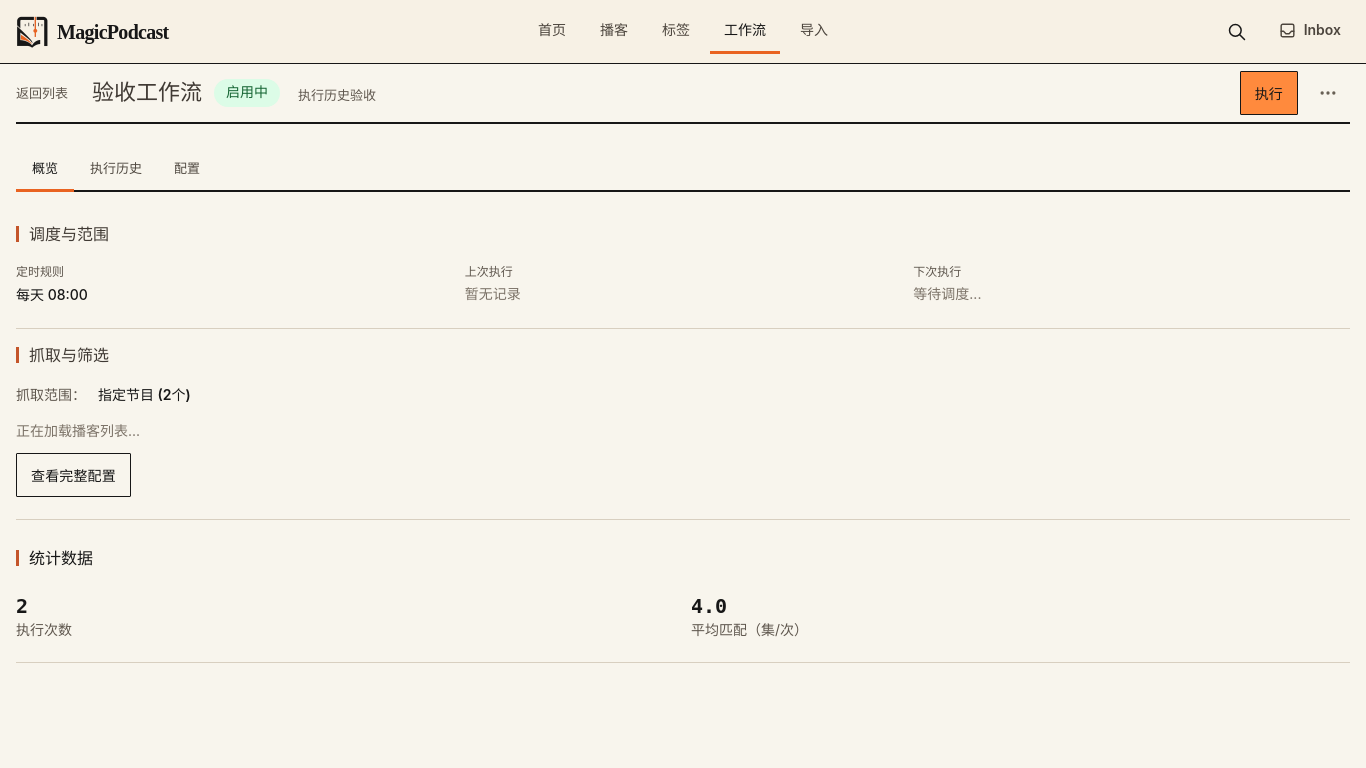
Scenario: 工作流执行历史可见等待验收 (#34) › AI 摘要失败时列表显示失败标记，状态仍为已完成且错误数为 0
Click the tab "执行历史": (116, 170) [74,148,158,192]
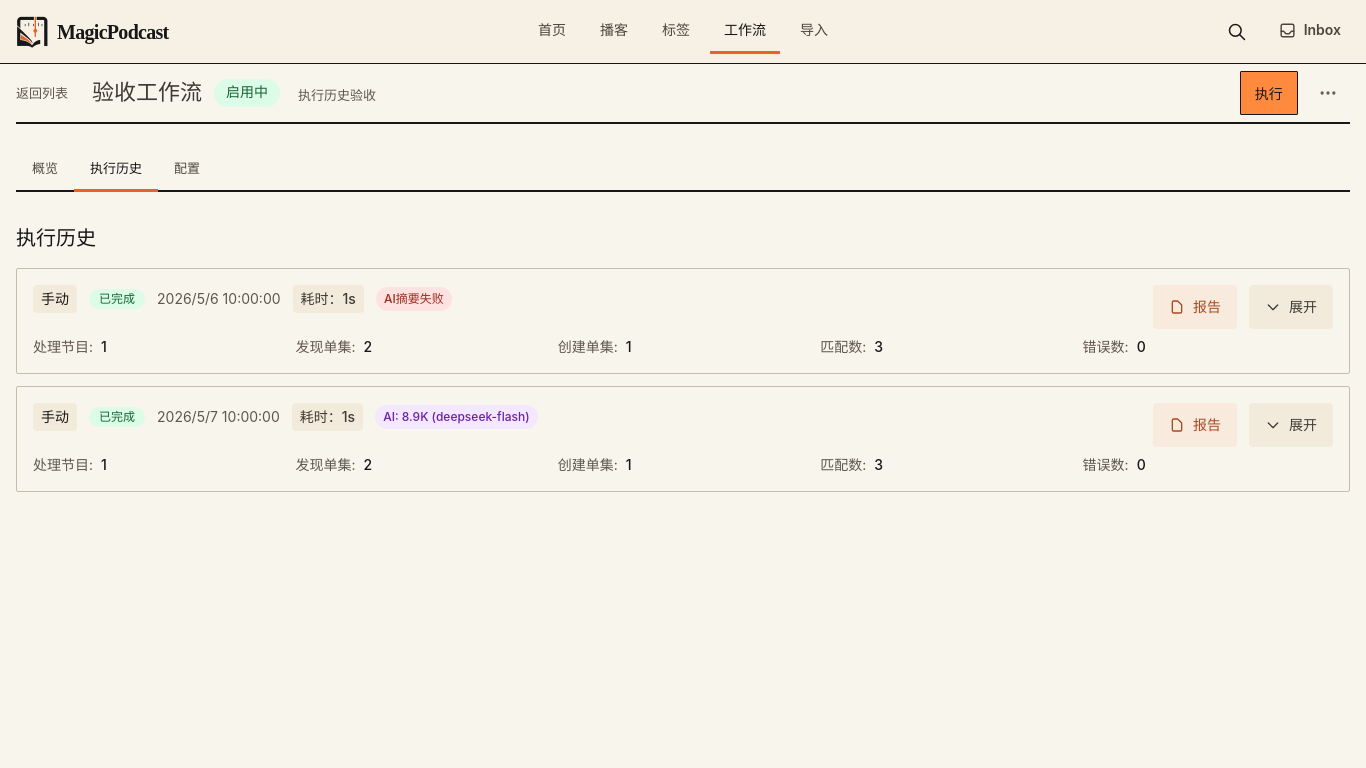
Result: the text "AI: 8.9K (deepseek-flash)" is shown at [375,405,538,429]
